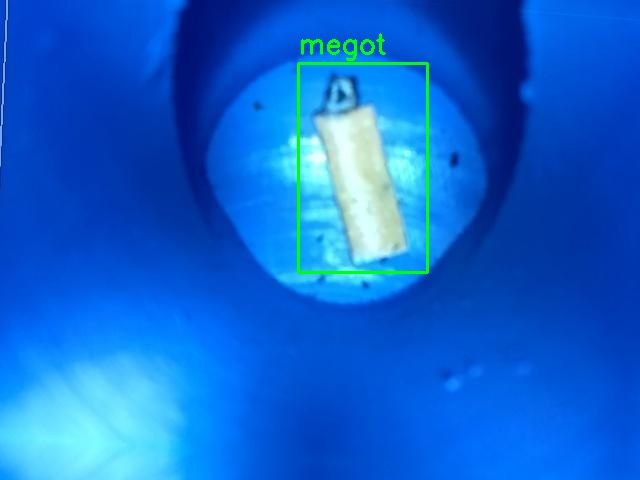megot: (298, 63, 427, 272)
